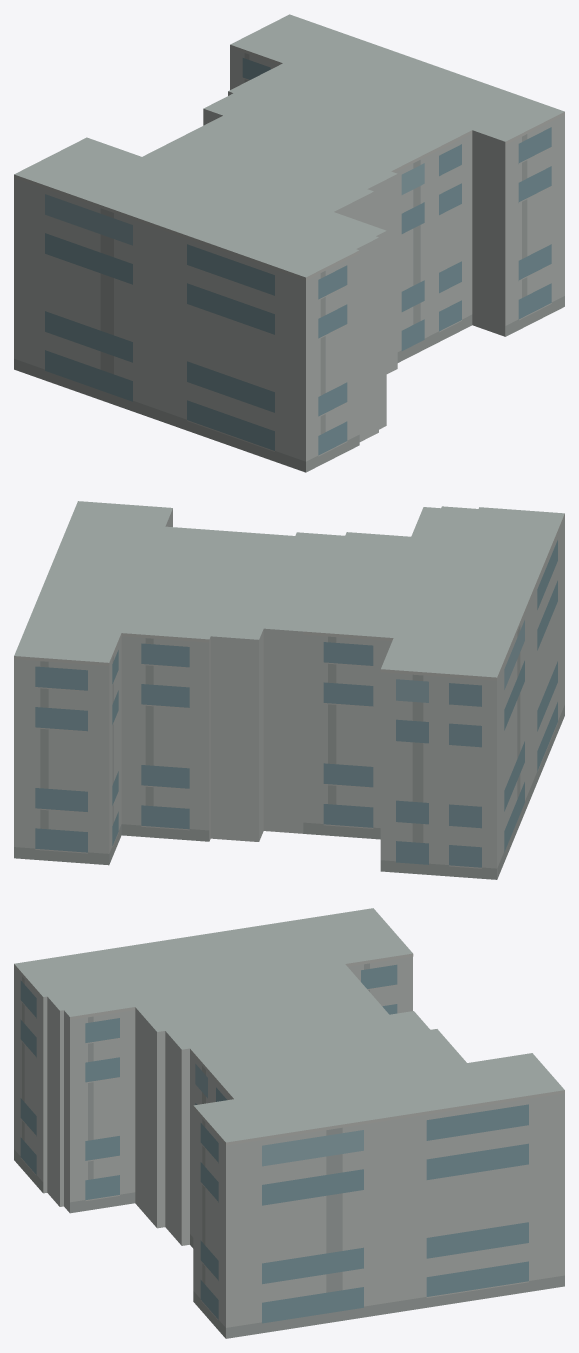
The model's file is survey-upis-33006988.glb.
The picture shows the model from 3 angles, top to bottom: view 1: azimuth 30°, elevation 25°; view 2: azimuth 150°, elevation 25°; view 3: azimuth 270°, elevation 25°; orthographic projection. The views are drawn at different scales.
Visible parts, largest first — view 1: survey-upis-33006988.tmp; view 2: survey-upis-33006988.tmp; view 3: survey-upis-33006988.tmp.
Part boxes in pixels (x1=…): survey-upis-33006988.tmp: x1=14, y1=14, x2=564, y2=472; survey-upis-33006988.tmp: x1=14, y1=501, x2=564, y2=879; survey-upis-33006988.tmp: x1=14, y1=908, x2=564, y2=1338.
Size of the model in its own units: 38.43 by 15 by 38.16.
